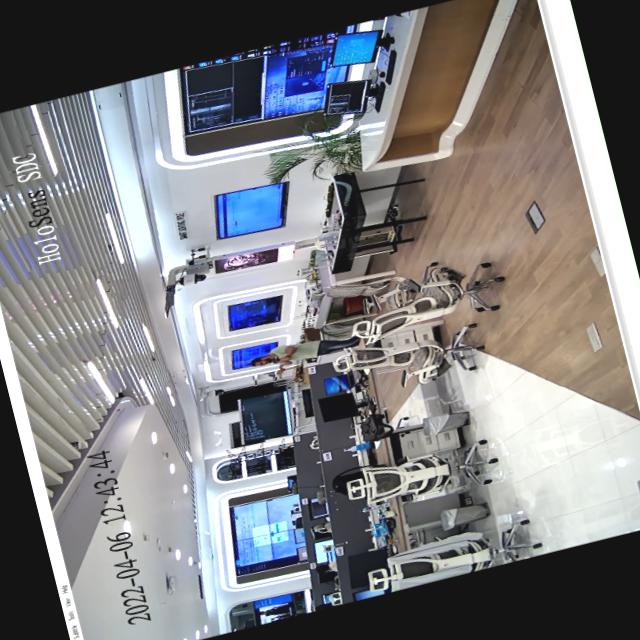long weapon: (265, 352, 286, 366)
